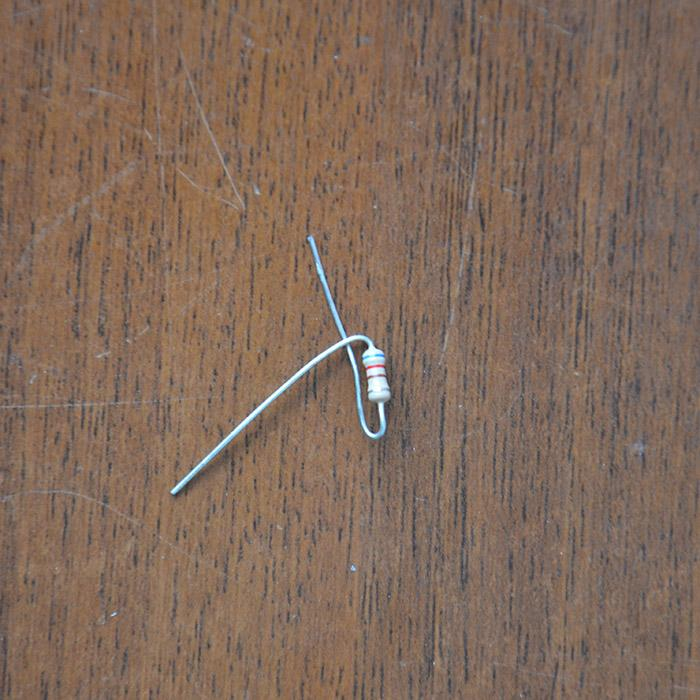resistor: (360, 345, 391, 403)
